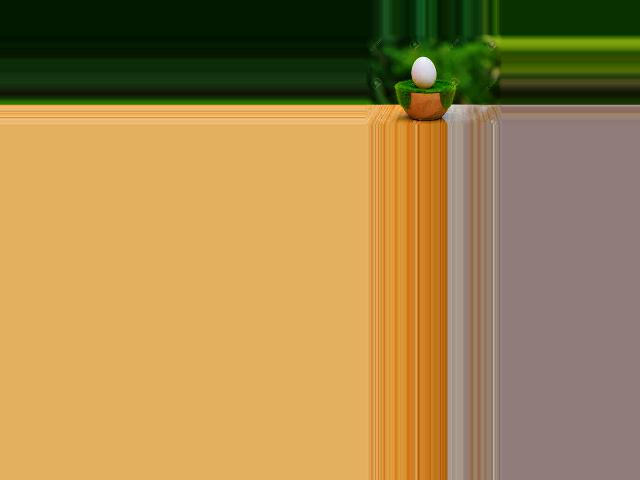egg: (412, 57, 437, 89)
